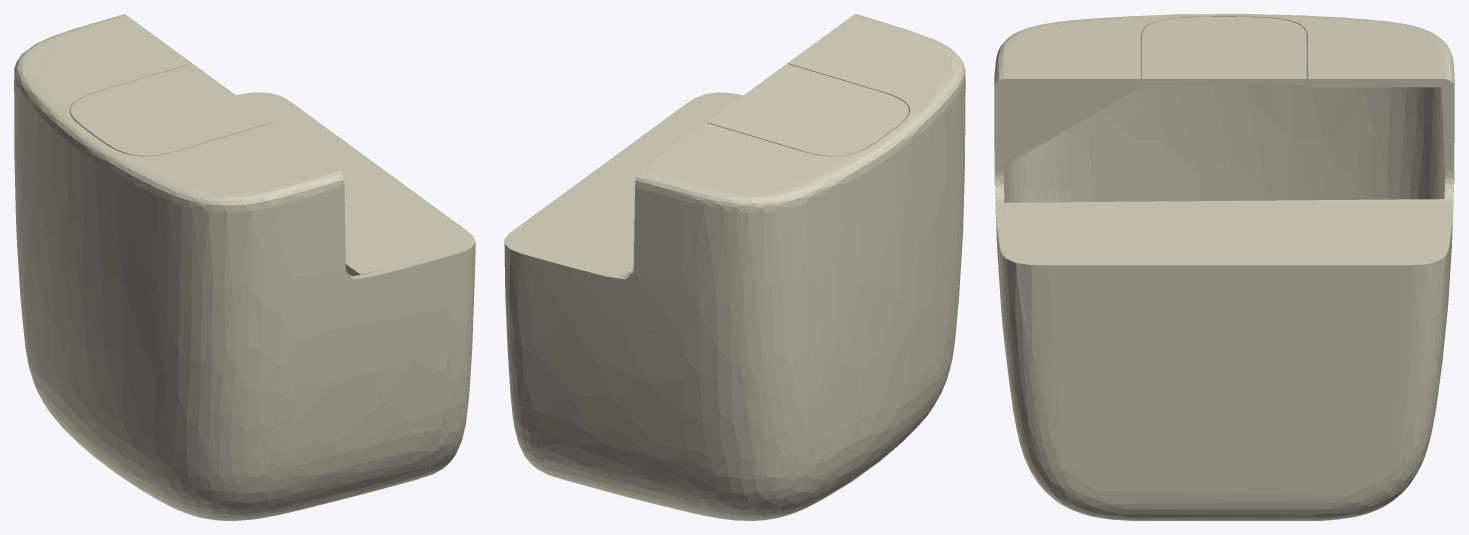
Rendered from wrist_roll.dae.
3 renders of one model, left to right at view 1: azimuth 30°, elevation 25°; view 2: azimuth 150°, elevation 25°; view 3: azimuth 270°, elevation 25°, orthographic. The views are drawn at different scales.
Visible parts, largest first — view 1: Wrist_Roll; view 2: Wrist_Roll; view 3: Wrist_Roll.
Boxes of the visible parts, x1=… form: Wrist_Roll: x1=14, y1=14, x2=475, y2=520; Wrist_Roll: x1=504, y1=14, x2=965, y2=520; Wrist_Roll: x1=994, y1=14, x2=1454, y2=520.
Size of the model in its own units: 0.0787 by 0.1018 by 0.0925.
Materials: 1 (1 with a texture image).
